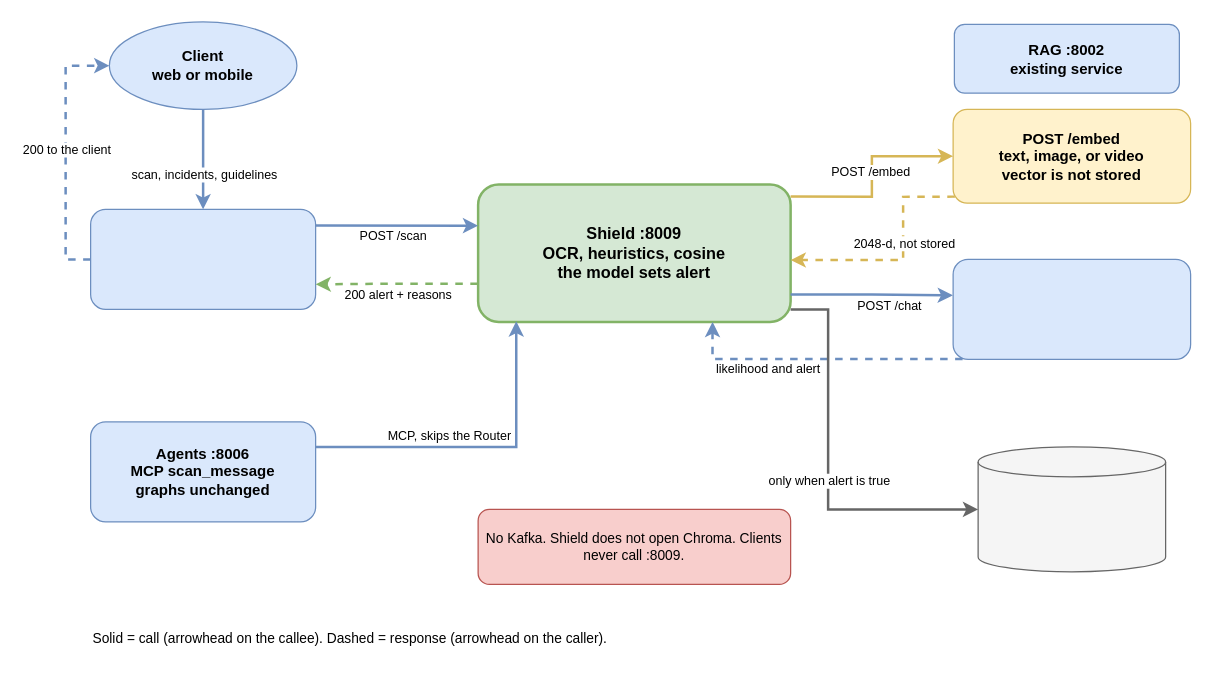
The diagram is 1213 pixels wide and 674 high, and some of its shapes have lost their labels. The shapes that lost their labels are listed below. From the top down, each one's box as (x1, y1, x2, y2) in pixels, then its label:
(89, 208, 316, 309): API Router :8000 JWT · premium · 30/min facade, no Kafka
(952, 258, 1191, 359): LLM :8003 Qwen3.5-4B base POST /chat · temp 0
(977, 446, 1166, 572): MongoDB shield_incidents alerts only
